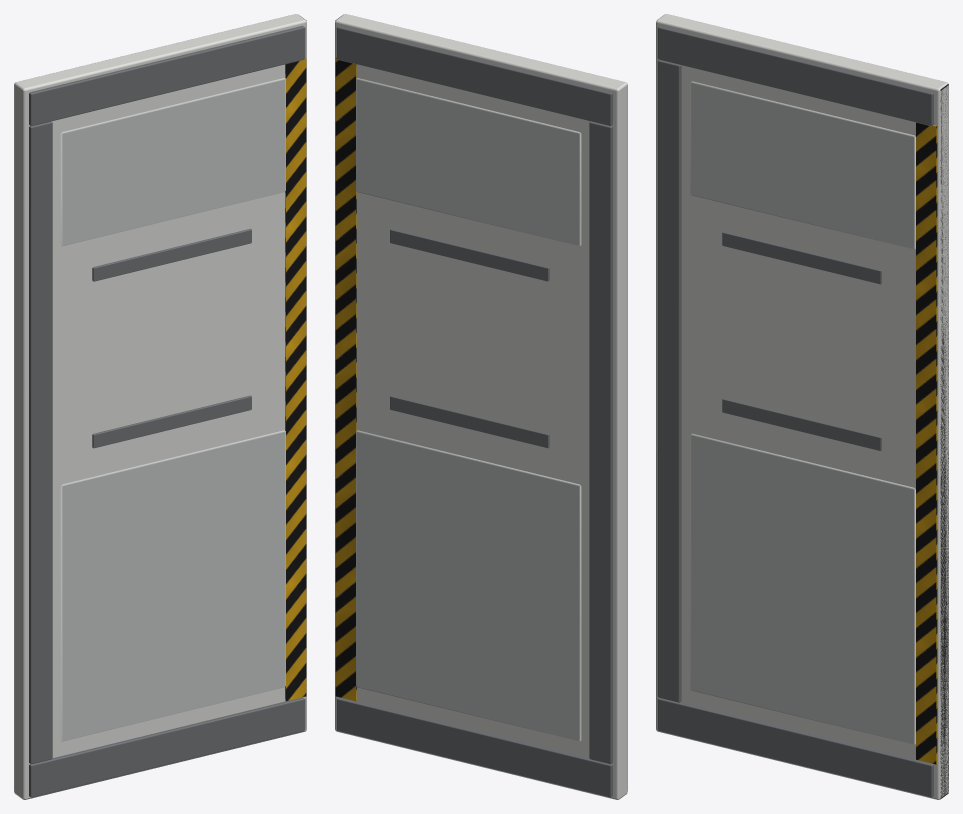
Rendered from kit_door_leaf.glb.
3 renders of one model, left to right at view 1: azimuth 30°, elevation 25°; view 2: azimuth 150°, elevation 25°; view 3: azimuth 330°, elevation 25°, orthographic.
Visible parts, largest first — view 1: kit_door_leaf; view 2: kit_door_leaf; view 3: kit_door_leaf.
Part boxes in pixels (x1,y1,x2,y2): kit_door_leaf: (14,14,306,799); kit_door_leaf: (335,14,627,799); kit_door_leaf: (656,14,948,799).
Size of the model in its own units: 1.25 by 2.99 by 0.12.
Materials: 6 (1 with a texture image).
